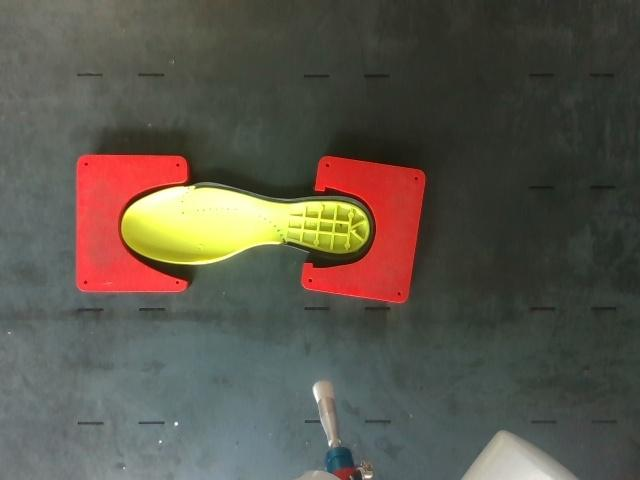shoes: (121, 182, 373, 264)
